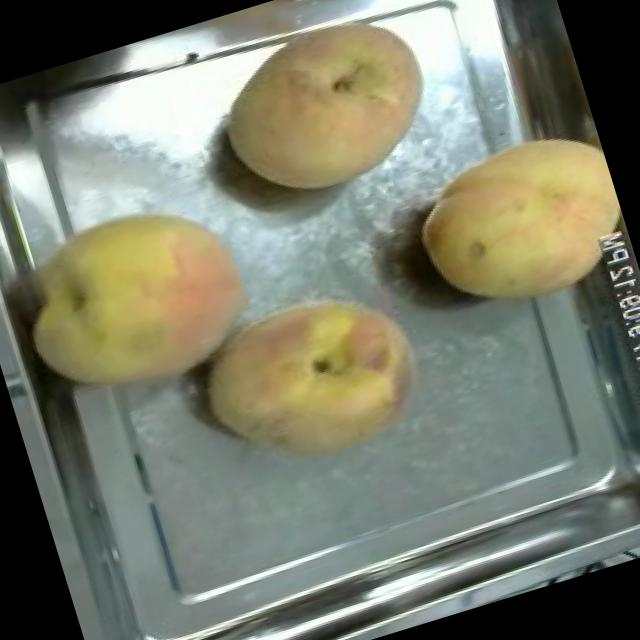Fruit: (0, 171, 279, 426), (175, 263, 442, 495), (192, 0, 455, 224), (393, 109, 640, 336)
